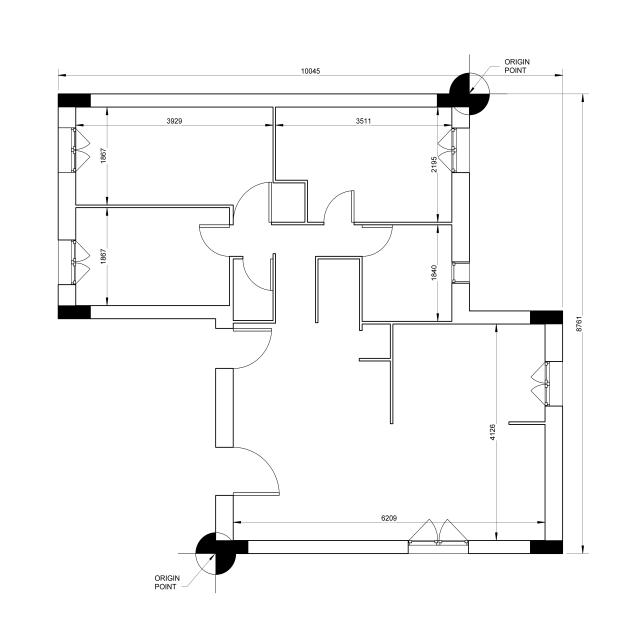Column: (528, 308, 566, 326), (528, 538, 566, 555), (57, 92, 92, 110), (213, 539, 250, 556), (54, 304, 92, 320), (436, 92, 471, 108)
Door: (217, 444, 282, 502), (217, 326, 273, 374), (231, 178, 273, 227), (240, 255, 274, 294), (321, 188, 356, 225), (359, 224, 396, 259), (195, 224, 232, 259)
Window: (406, 516, 471, 559), (523, 358, 566, 409), (56, 235, 94, 289), (434, 124, 472, 176), (56, 126, 92, 174), (448, 259, 474, 286)
